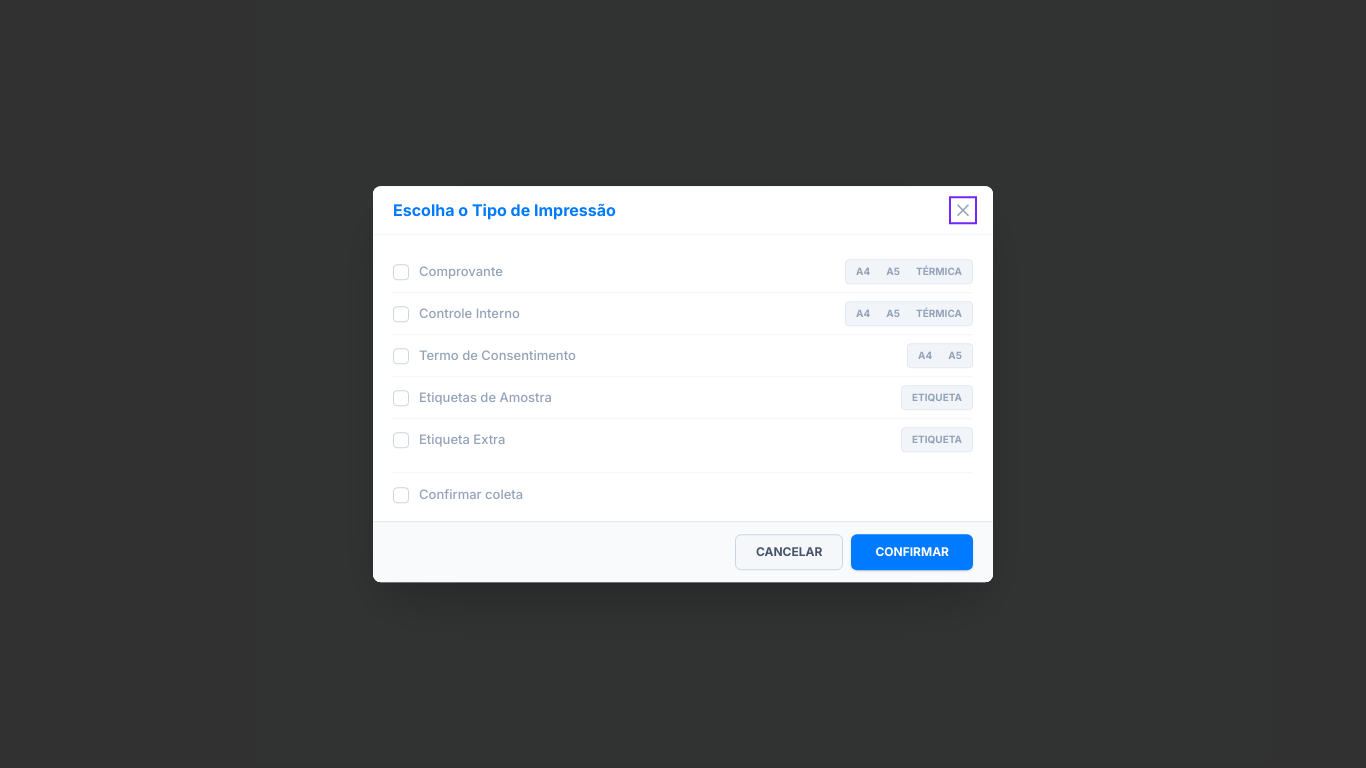
Test: Etiqueta Extra mostra o total de etiquetas que vai imprimir
Click the text "Etiqueta Extra" at x=462, y=440, box [419,430,506,450]
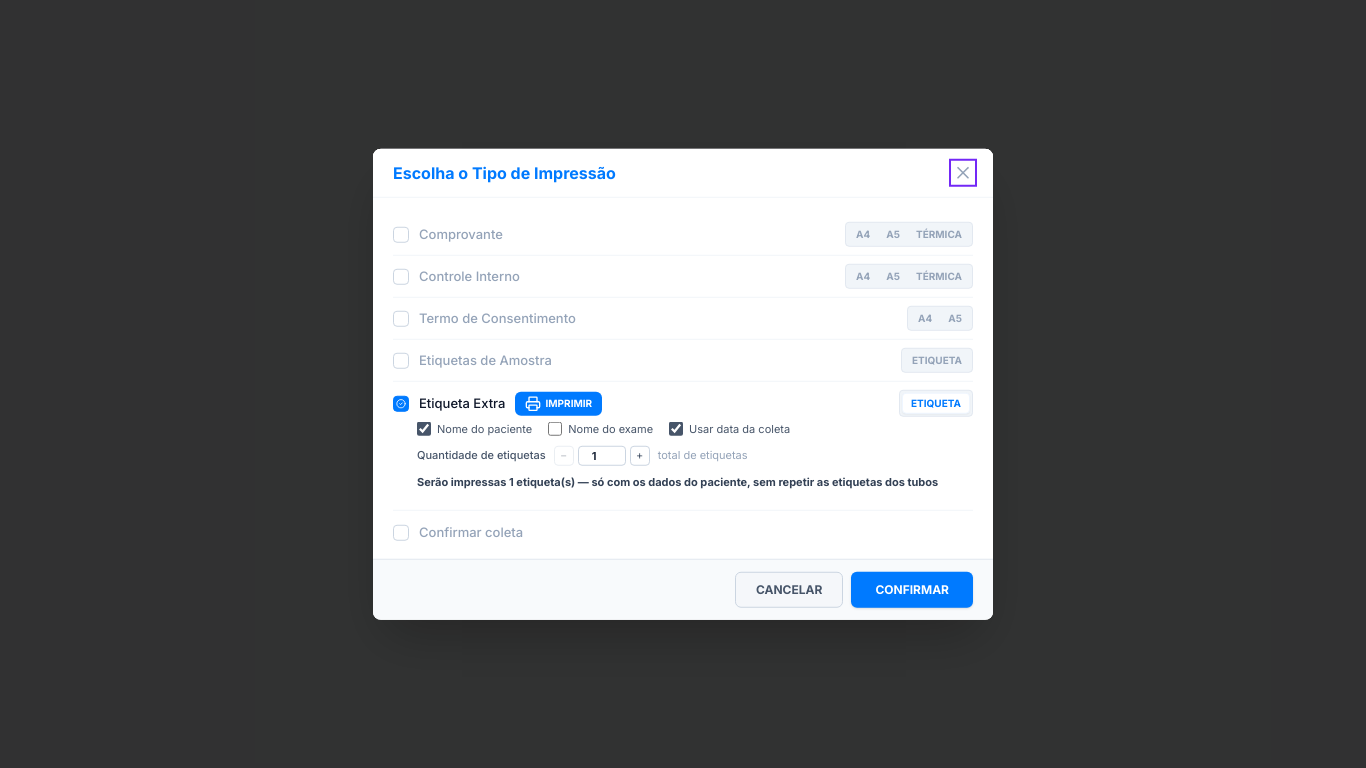
expect the number field named "Quantidade de etiquetas" holds "1": met, box [578,445,626,465]
Click the button named "Aumentar quantidade de etiquetas" at x=640, y=455, box [630,445,650,465]
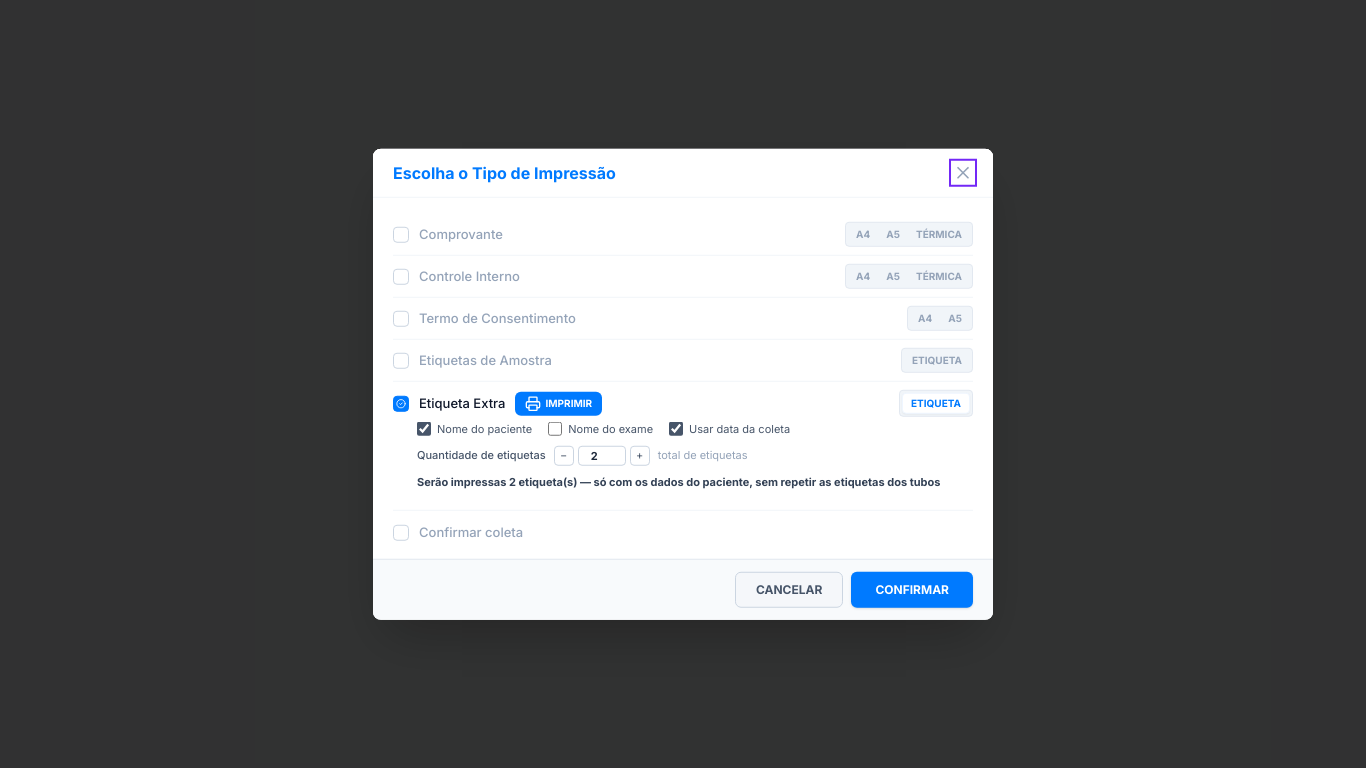
expect the number field named "Quantidade de etiquetas" holds "2": met, box [578,445,626,465]
